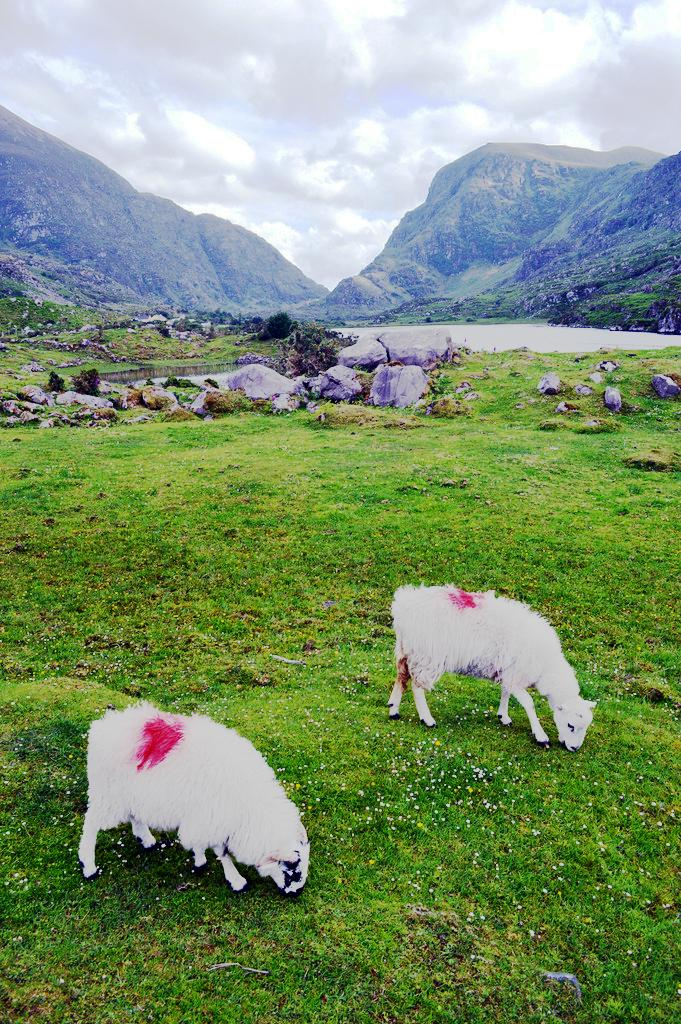Sheep: (78, 700, 312, 898), (389, 586, 590, 754)
